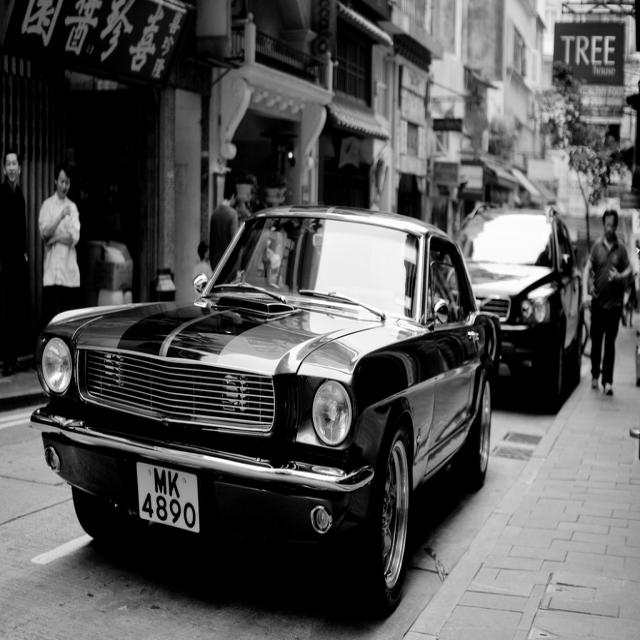car: (32, 199, 513, 601)
